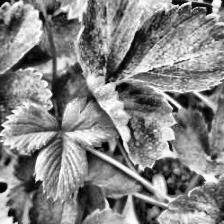Powdery Mildew Leaf: (86, 72, 177, 172), (74, 0, 143, 83)
